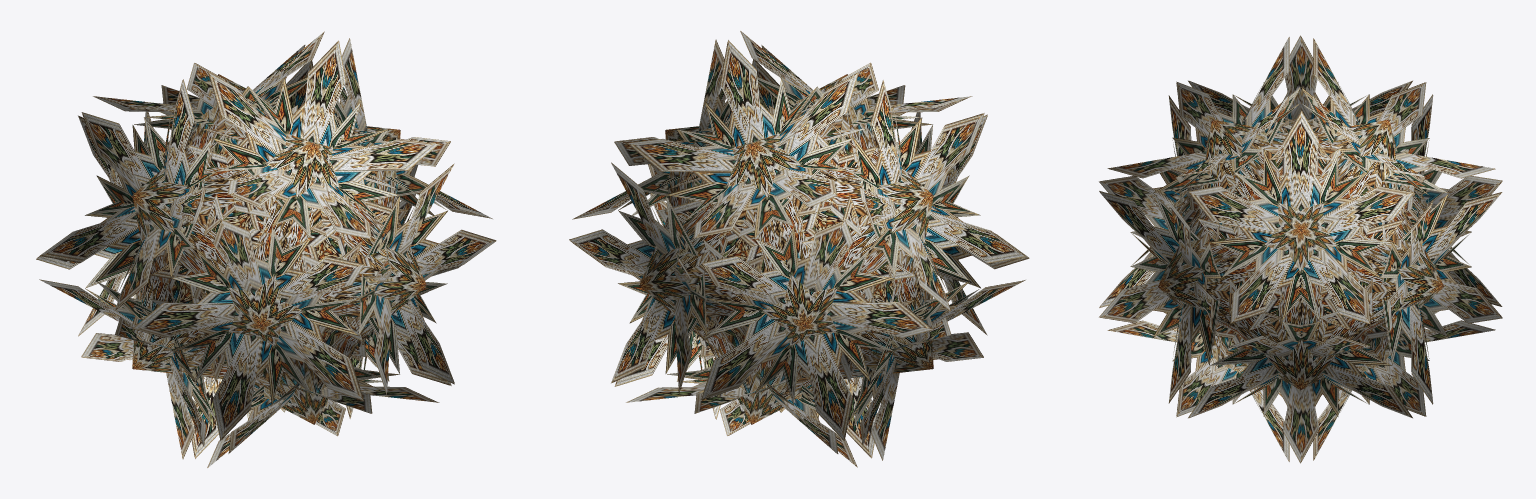
File: GreatIcosacronicHexecontahedron1.gltf
3 views of the same model, side by side, from view 1: azimuth 30°, elevation 25°; view 2: azimuth 150°, elevation 25°; view 3: azimuth 270°, elevation 25° (orthographic). The views are drawn at different scales.
Visible parts, largest first — view 1: GreatIcosacronicHexecontahedron9; view 2: GreatIcosacronicHexecontahedron9; view 3: GreatIcosacronicHexecontahedron9.
Part boxes in pixels (x1,y1,x2,y2): GreatIcosacronicHexecontahedron9: (36,31,496,467); GreatIcosacronicHexecontahedron9: (569,31,1029,467); GreatIcosacronicHexecontahedron9: (1099,35,1502,463).
Size of the model in its own units: 3.62 by 3.62 by 3.62.
1 material, 1 textured.
